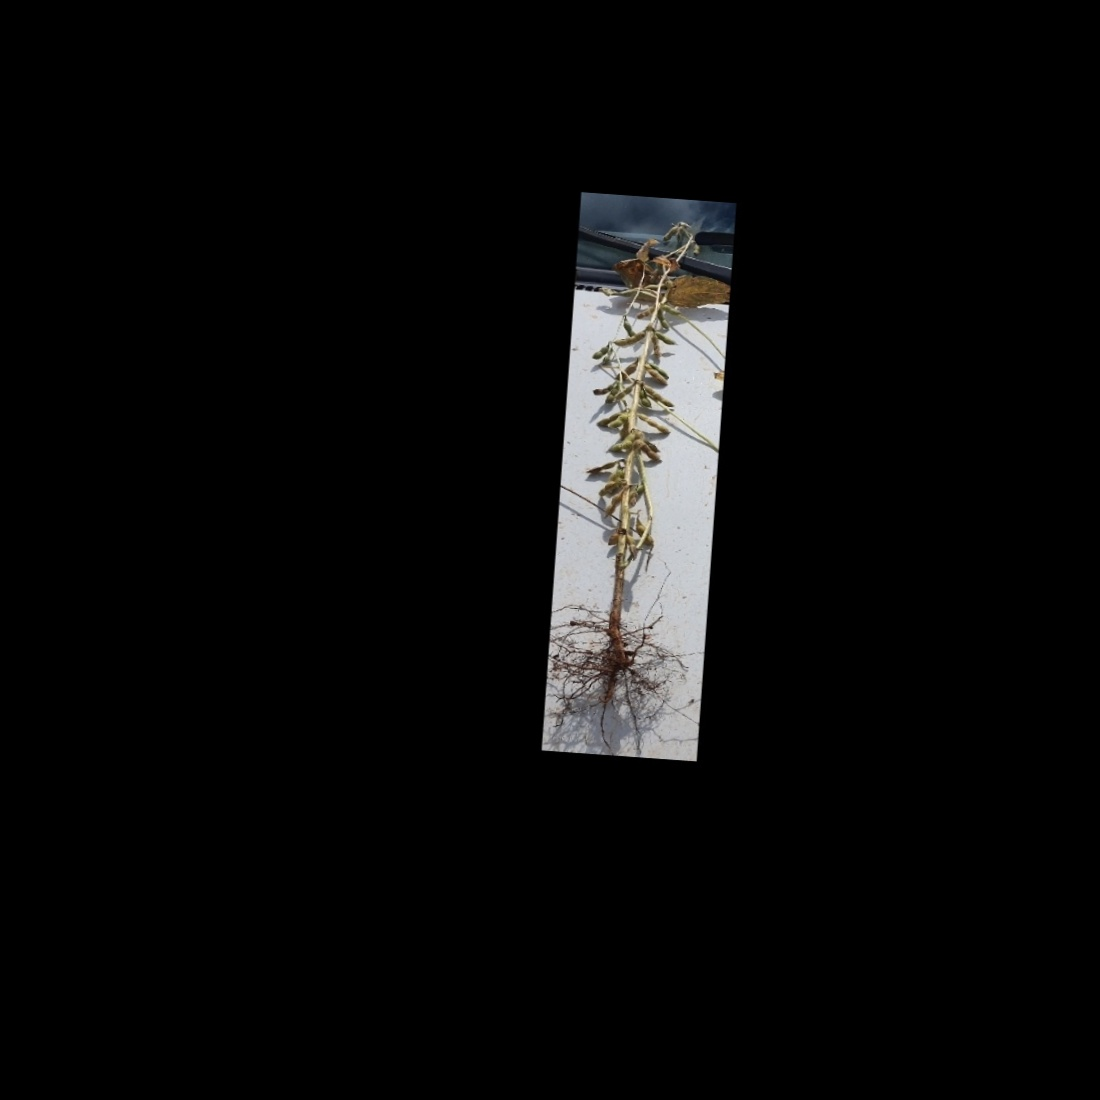pod: (631, 516, 659, 548), (636, 412, 671, 433), (645, 385, 676, 408), (583, 457, 614, 476), (602, 492, 622, 522), (606, 410, 631, 432), (606, 439, 635, 453), (615, 383, 635, 402), (637, 388, 654, 409), (590, 343, 609, 360), (604, 386, 618, 405)
soy: (565, 212, 725, 688)
